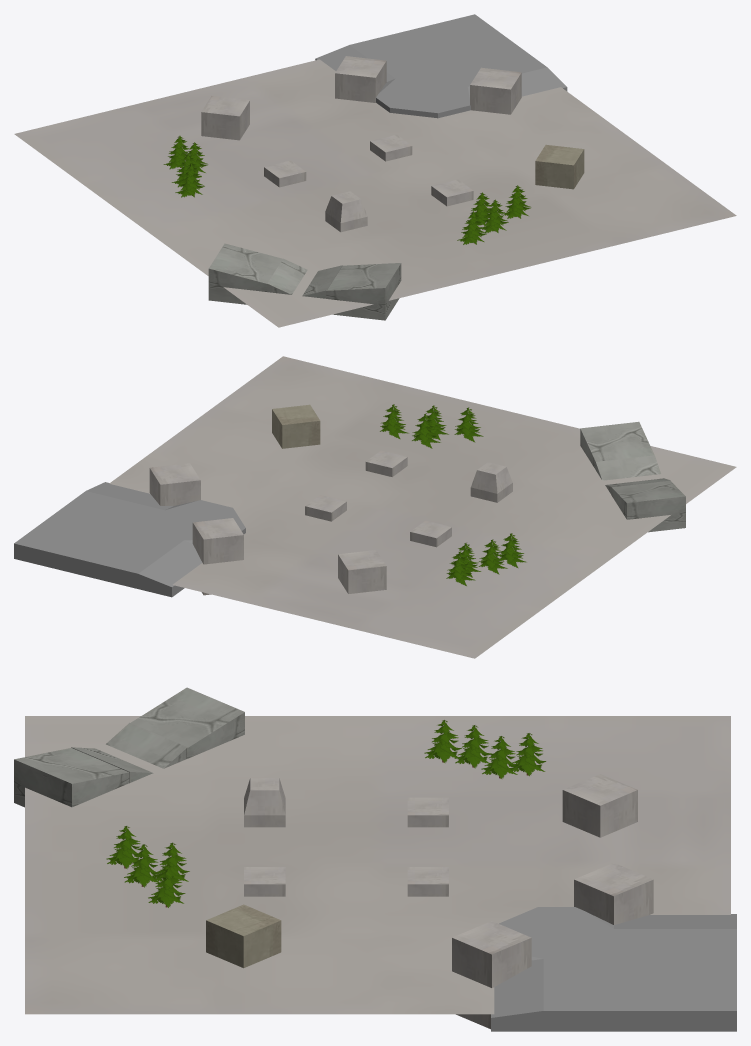
File: TL_core.glb
3 renders of one model, top to bottom at view 1: azimuth 30°, elevation 25°; view 2: azimuth 150°, elevation 25°; view 3: azimuth 270°, elevation 25°, orthographic. The views are drawn at different scales.
Parts seen in each view (by area): view 1: Plane, Cube.007, Cube.002, Cube.004, Cube.011, Cube.006, Cube.014, Cube.013, Cube.001, Cube.012, Cube.009, Cube.005 (+1 smaller); view 2: Plane, Cube.007, Cube.004, Cube.002, Cube.006, Cube.011, Cube.014, Cube.013, Cube.001, Cube.012, Cube.009, Cube.003 (+4 smaller); view 3: Plane, Cube.007, Cube.002, Cube.004, Cube.011, Cube.006, Cube.013, Cube.014, Cube.001, Cube.012, Cube.003, Cube.005 (+9 smaller).
Boxes of the visible parts, box(x1,y1,x2,y2) form: Plane: box(14, 59, 736, 327); Cube.007: box(315, 14, 567, 118); Cube.002: box(326, 263, 401, 320); Cube.004: box(208, 243, 282, 304); Cube.011: box(470, 67, 521, 114); Cube.006: box(335, 56, 386, 102); Cube.014: box(535, 144, 584, 189); Cube.013: box(201, 96, 249, 140); Cube.001: box(267, 258, 342, 298); Cube.012: box(325, 191, 367, 232); Cube.009: box(431, 179, 473, 206); Cube.005: box(370, 134, 412, 161); Plane: box(109, 356, 736, 658); Cube.007: box(14, 482, 245, 597); Cube.004: box(611, 480, 685, 532); Cube.002: box(580, 421, 654, 469); Cube.006: box(192, 518, 243, 595); Cube.011: box(149, 463, 200, 505); Cube.014: box(272, 404, 320, 448); Cube.013: box(338, 550, 386, 593); Cube.001: box(595, 455, 670, 494); Cube.012: box(470, 462, 512, 502); Cube.009: box(365, 450, 407, 476); Cube.003: box(410, 520, 451, 547); Plane: box(25, 716, 730, 1014); Cube.007: box(491, 907, 736, 1031); Cube.002: box(14, 748, 129, 807); Cube.004: box(131, 687, 244, 758); Cube.011: box(452, 921, 531, 1029); Cube.006: box(574, 863, 653, 924); Cube.013: box(562, 774, 637, 837); Cube.014: box(206, 904, 281, 968); Cube.001: box(71, 722, 187, 783); Cube.012: box(244, 778, 285, 827); Cube.003: box(407, 797, 448, 827); Cube.005: box(407, 867, 448, 896).
Bounding box in the file's own units: 1.45 × 0.1877 × 1.44.
Materials: 6 (5 with a texture image).
